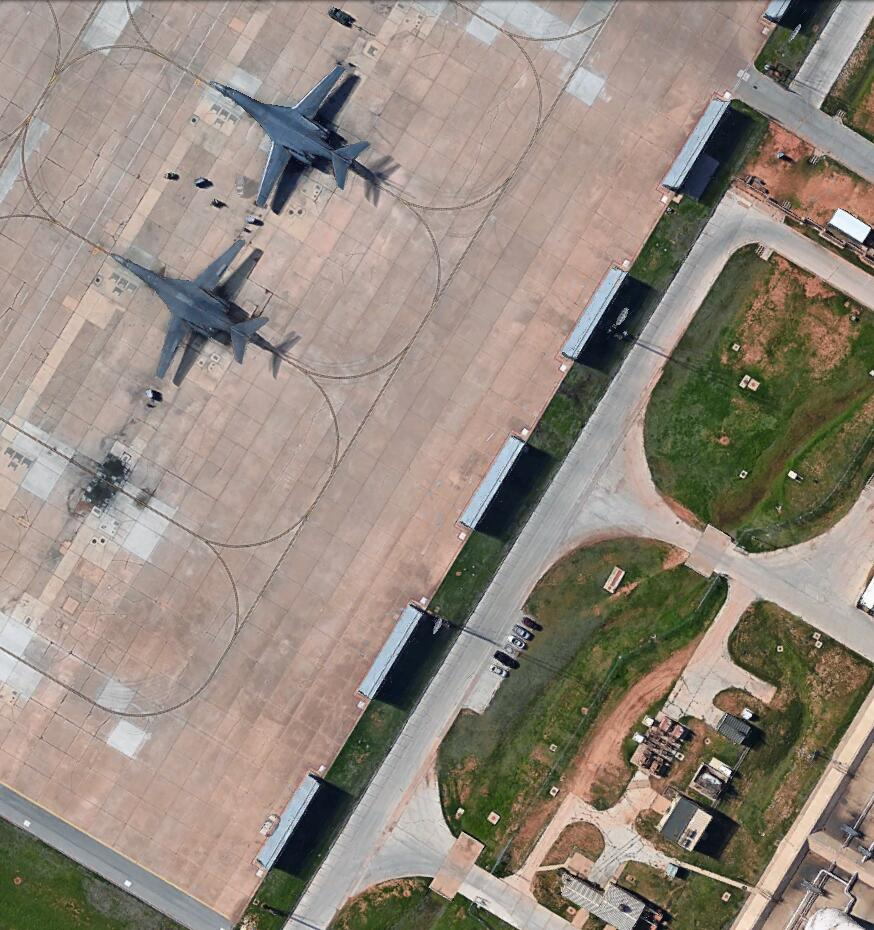A10: (209, 60, 374, 214), (105, 236, 273, 382)
